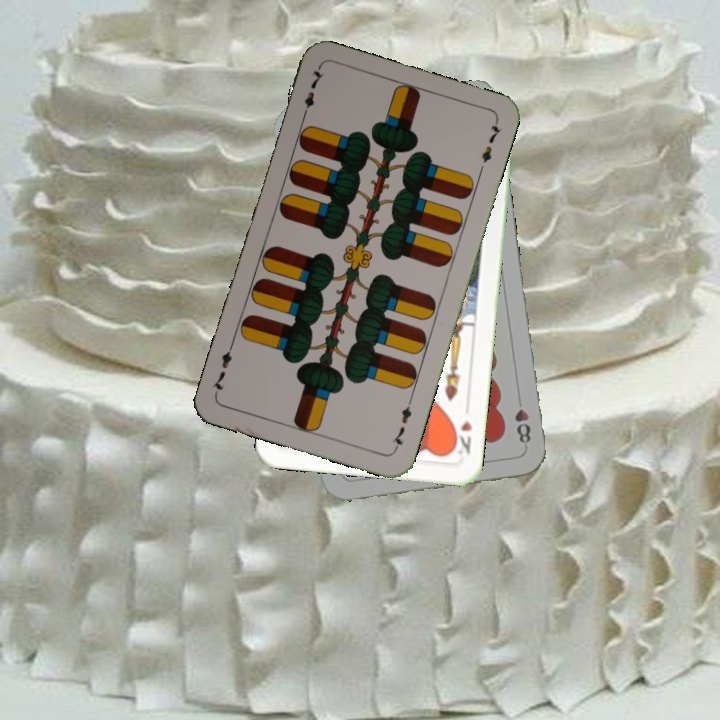E7: (298, 64, 327, 121), (388, 395, 415, 453)
H8: (511, 404, 534, 446)
HK: (448, 416, 475, 459)
